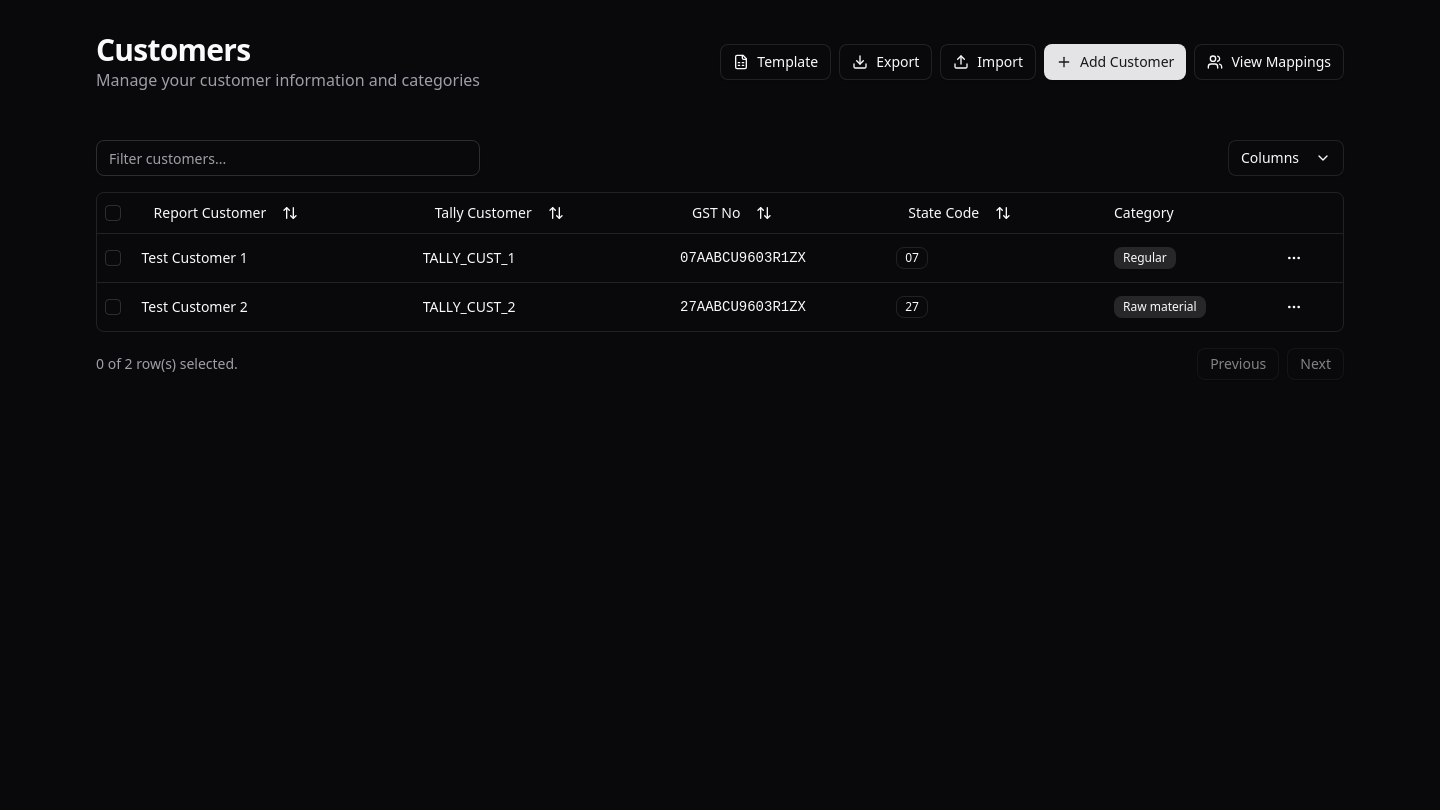
Test: Customer Management - Core Functionality › Customers Page › should open create form when Add Customer button is clicked
Click the button "Add Customer": (1115, 62) x1=1044 y1=44 x2=1186 y2=80
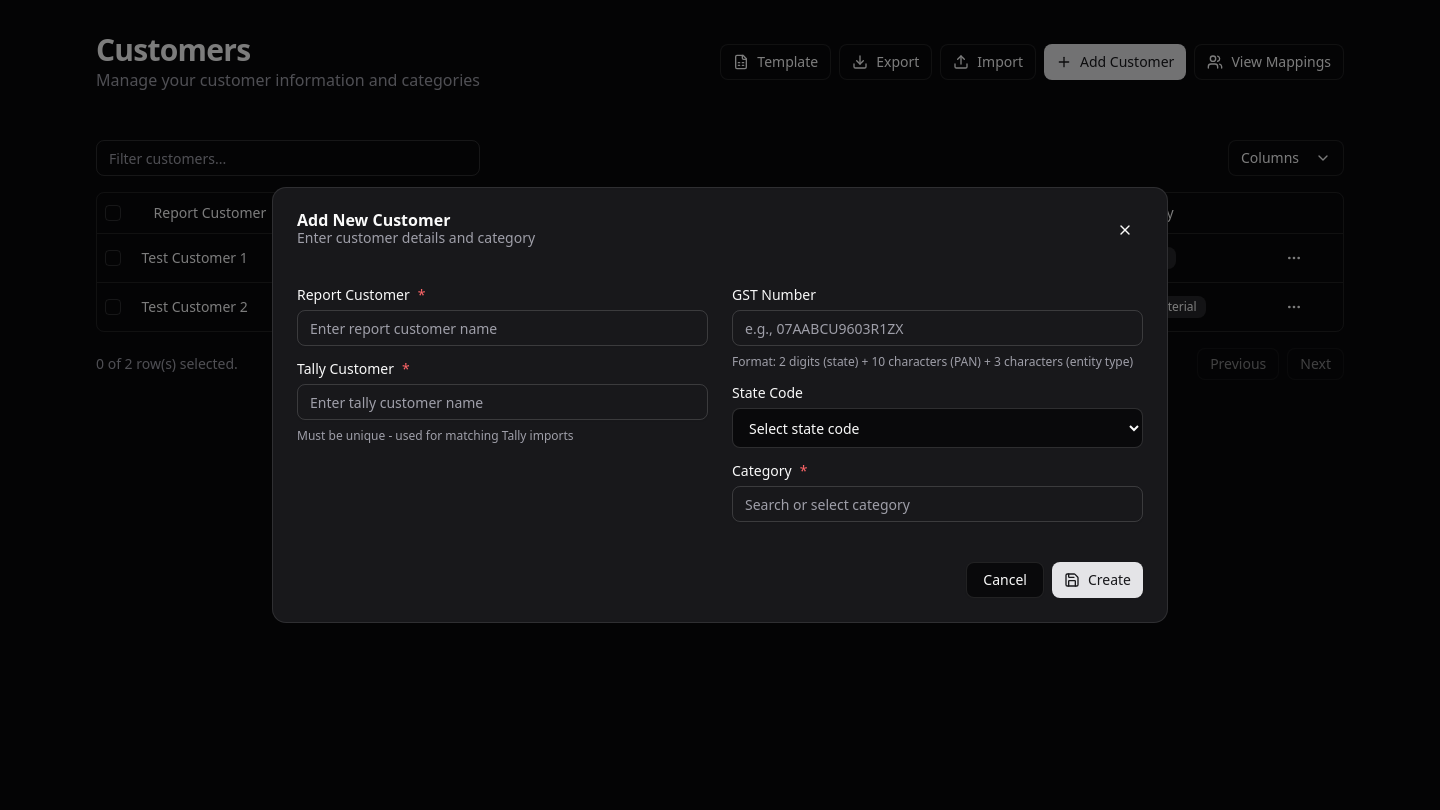
Result: the text "Add New Customer" is shown at x1=297 y1=209 x2=450 y2=231
